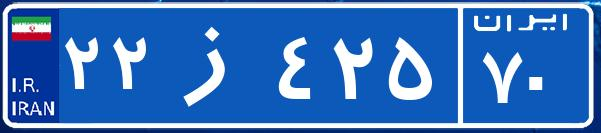0: (525, 38, 570, 115)
2: (330, 28, 385, 110), (57, 26, 110, 107), (110, 28, 158, 105)
4: (273, 28, 330, 110)
5: (385, 28, 445, 110)
7: (475, 38, 525, 113)
ز: (158, 15, 273, 115)
